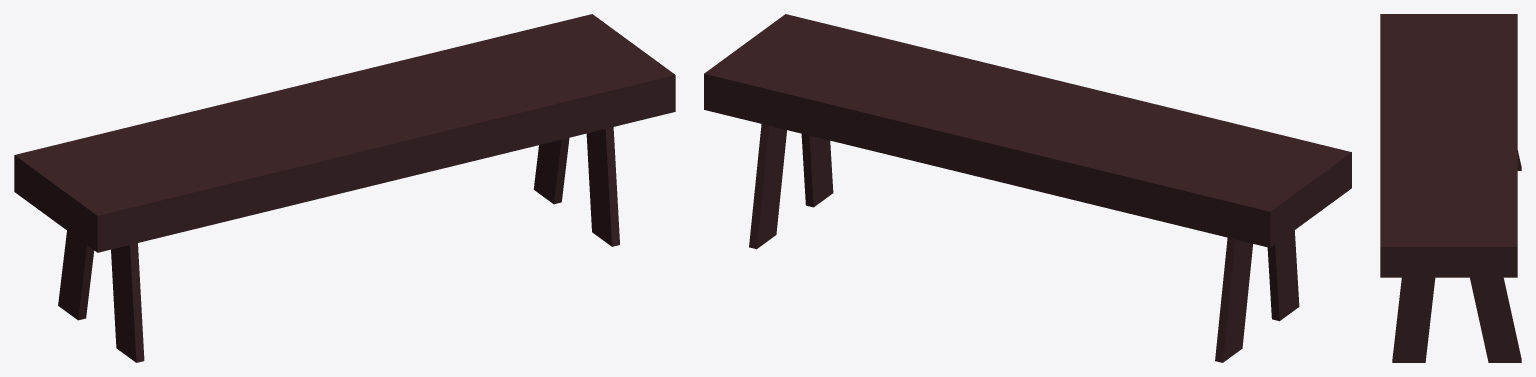
The model's file is Banco Mesa1.fbx.
3 renders of one model, left to right at view 1: azimuth 30°, elevation 25°; view 2: azimuth 150°, elevation 25°; view 3: azimuth 270°, elevation 25°, orthographic. The views are drawn at different scales.
Visible parts, largest first — view 1: Cube.008; view 2: Cube.008; view 3: Cube.008.
Boxes of the visible parts, box(x1,y1,x2,y2) form: Cube.008: box(14, 14, 675, 362); Cube.008: box(704, 14, 1351, 362); Cube.008: box(1380, 14, 1521, 362).
Size of the model in its own units: 802 by 217 by 206.
